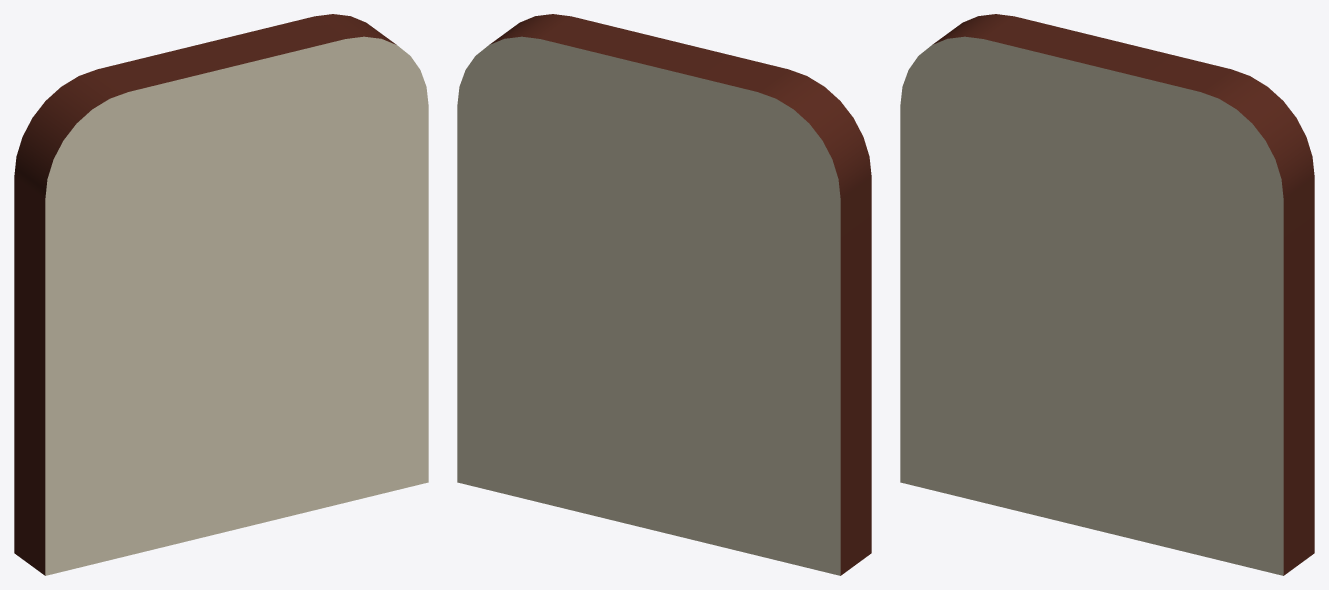
File: Toast.fbx
3 renders of one model, left to right at view 1: azimuth 30°, elevation 25°; view 2: azimuth 150°, elevation 25°; view 3: azimuth 330°, elevation 25°, orthographic.
Parts seen in each view (by area): view 1: pCube17; view 2: pCube17; view 3: pCube17.
Part boxes in pixels (x1,y1,x2,y2): pCube17: (14,14,428,575); pCube17: (457,14,871,575); pCube17: (900,14,1314,575).
Bounding box in the file's own units: 21.68 × 25.06 × 3.04.
